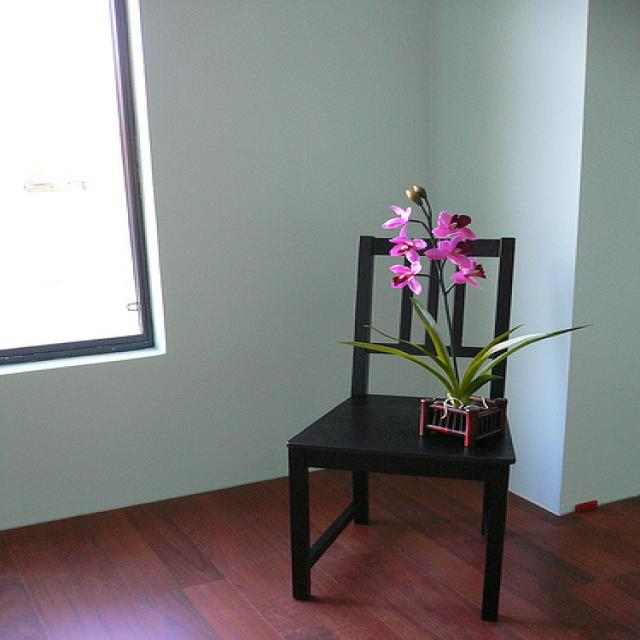chair: (288, 234, 516, 625)
